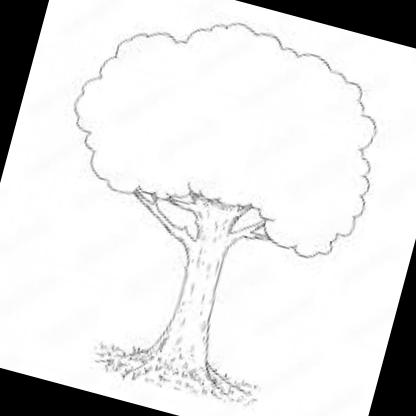bird: (120, 171, 277, 272)
crown_cloud: (51, 0, 404, 270)
root_none: (92, 325, 268, 416)
trunk_bark: (160, 270, 232, 345)
